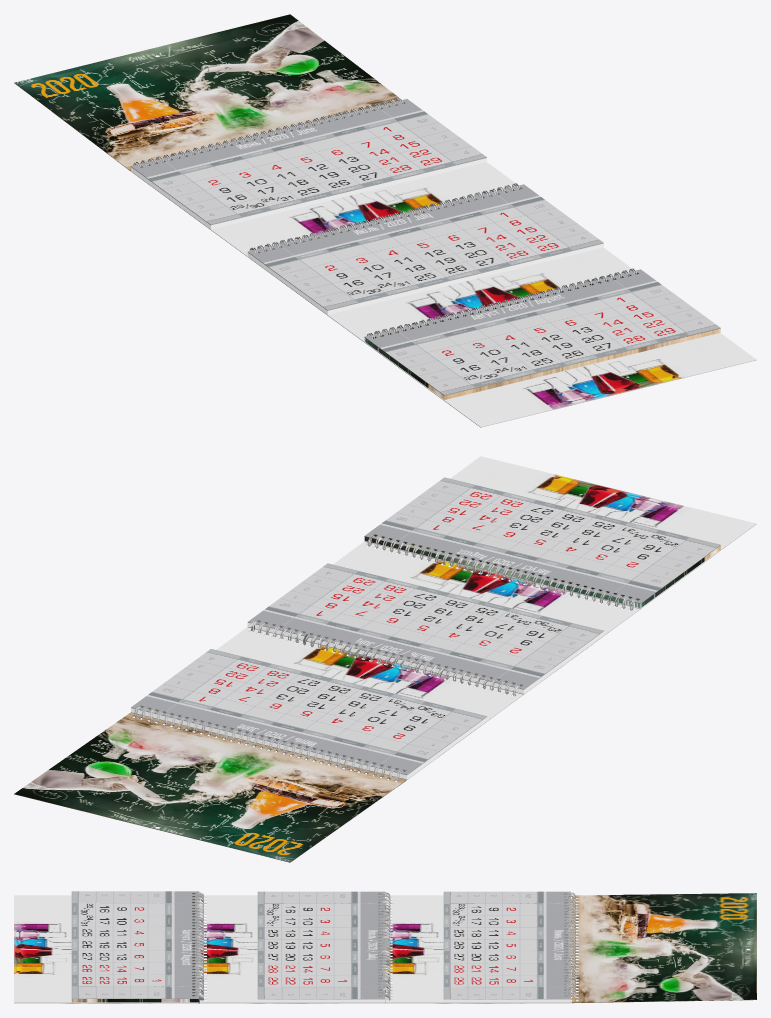
File: kalendar.FBX
3 renders of one model, top to bottom at view 1: azimuth 30°, elevation 25°; view 2: azimuth 150°, elevation 25°; view 3: azimuth 270°, elevation 25°, orthographic. The views are drawn at different scales.
Parts seen in each view (by area): view 1: 3dSolid12, 3dSolid05, 3dSolid02, 3dSolid11, 3dSolid13, 3dSolid06, 3dSolid07, 3dSolid09, 3dSolid08, 3dSolid10, 3dSolid03, 3dSolid01 (+1 smaller); view 2: 3dSolid12, 3dSolid05, 3dSolid11, 3dSolid02, 3dSolid13, 3dSolid06, 3dSolid07, 3dSolid08, 3dSolid04, 3dSolid10, 3dSolid09, 3dSolid03 (+1 smaller); view 3: 3dSolid12, 3dSolid05, 3dSolid02, 3dSolid11, 3dSolid13, 3dSolid06, 3dSolid07, 3dSolid03, 3dSolid01, 3dSolid04, 3dSolid09, 3dSolid10 (+1 smaller).
Part boxes in pixels (x1,y1,x2,y2): 3dSolid12: (14, 14, 401, 170); 3dSolid05: (131, 99, 486, 224); 3dSolid02: (248, 184, 603, 310); 3dSolid11: (364, 269, 720, 395); 3dSolid13: (364, 333, 756, 427); 3dSolid06: (130, 162, 515, 256); 3dSolid07: (248, 247, 631, 341); 3dSolid09: (247, 187, 603, 314); 3dSolid08: (131, 102, 486, 229); 3dSolid10: (364, 273, 720, 399); 3dSolid03: (249, 183, 520, 253); 3dSolid01: (133, 98, 403, 167); 3dSolid12: (14, 712, 406, 862); 3dSolid05: (131, 649, 486, 774); 3dSolid11: (364, 477, 720, 603); 3dSolid02: (248, 563, 603, 689); 3dSolid13: (364, 456, 756, 609); 3dSolid06: (131, 627, 522, 779); 3dSolid07: (248, 542, 640, 694); 3dSolid08: (131, 706, 486, 779); 3dSolid04: (367, 535, 637, 610); 3dSolid10: (364, 534, 720, 607); 3dSolid09: (247, 620, 603, 693); 3dSolid03: (251, 621, 520, 696); 3dSolid12: (572, 893, 756, 1003); 3dSolid05: (443, 891, 570, 999); 3dSolid02: (257, 891, 384, 999); 3dSolid11: (71, 891, 198, 998); 3dSolid13: (14, 895, 198, 1003); 3dSolid06: (386, 895, 570, 1003); 3dSolid07: (200, 895, 384, 1003); 3dSolid03: (380, 892, 390, 1003); 3dSolid01: (566, 892, 576, 1003); 3dSolid04: (194, 892, 203, 1003); 3dSolid09: (257, 893, 384, 1002); 3dSolid10: (71, 893, 198, 1002).
Size of the model in its own units: 29.51 by 1.2 by 86.3.
